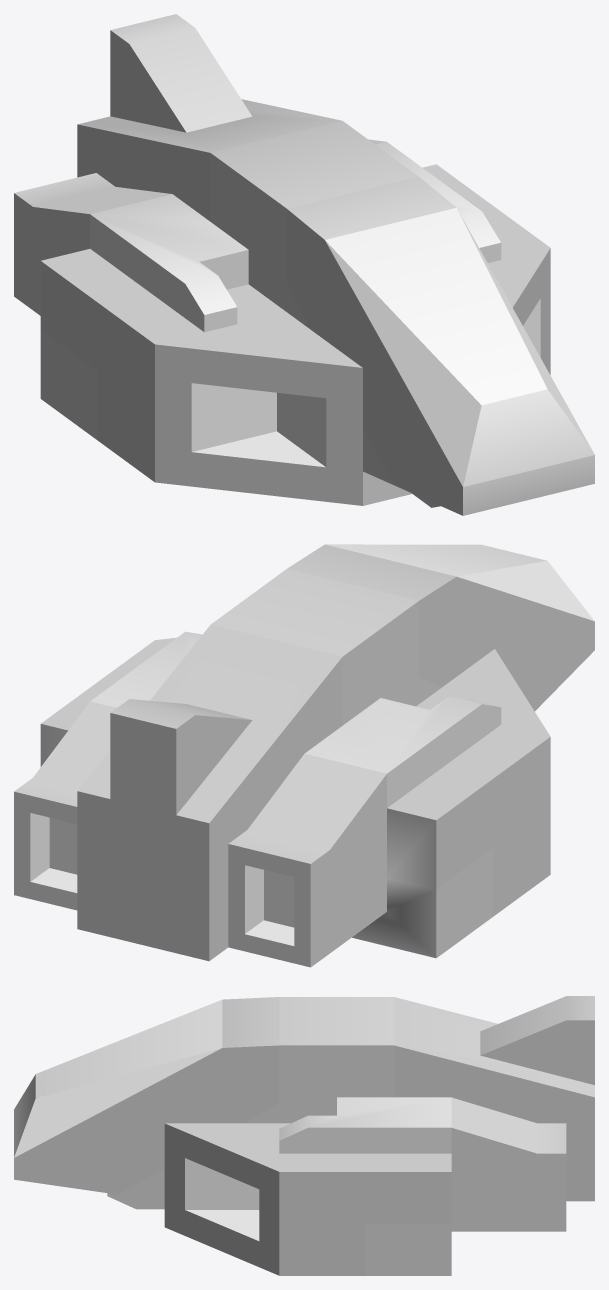
Rendered from river_drone.glb.
The picture shows the model from 3 angles, top to bottom: view 1: azimuth 30°, elevation 25°; view 2: azimuth 150°, elevation 25°; view 3: azimuth 270°, elevation 25°; orthographic projection. The views are drawn at different scales.
Visible parts, largest first — view 1: Body; view 2: Body; view 3: Body.
Boxes of the visible parts, x1,y1,x2,y2 form: Body: (14, 14, 594, 515); Body: (14, 544, 594, 967); Body: (14, 996, 594, 1275).
Bounding box in the file's own units: 2.37 × 1.48 × 4.
2 materials, 1 textured.
